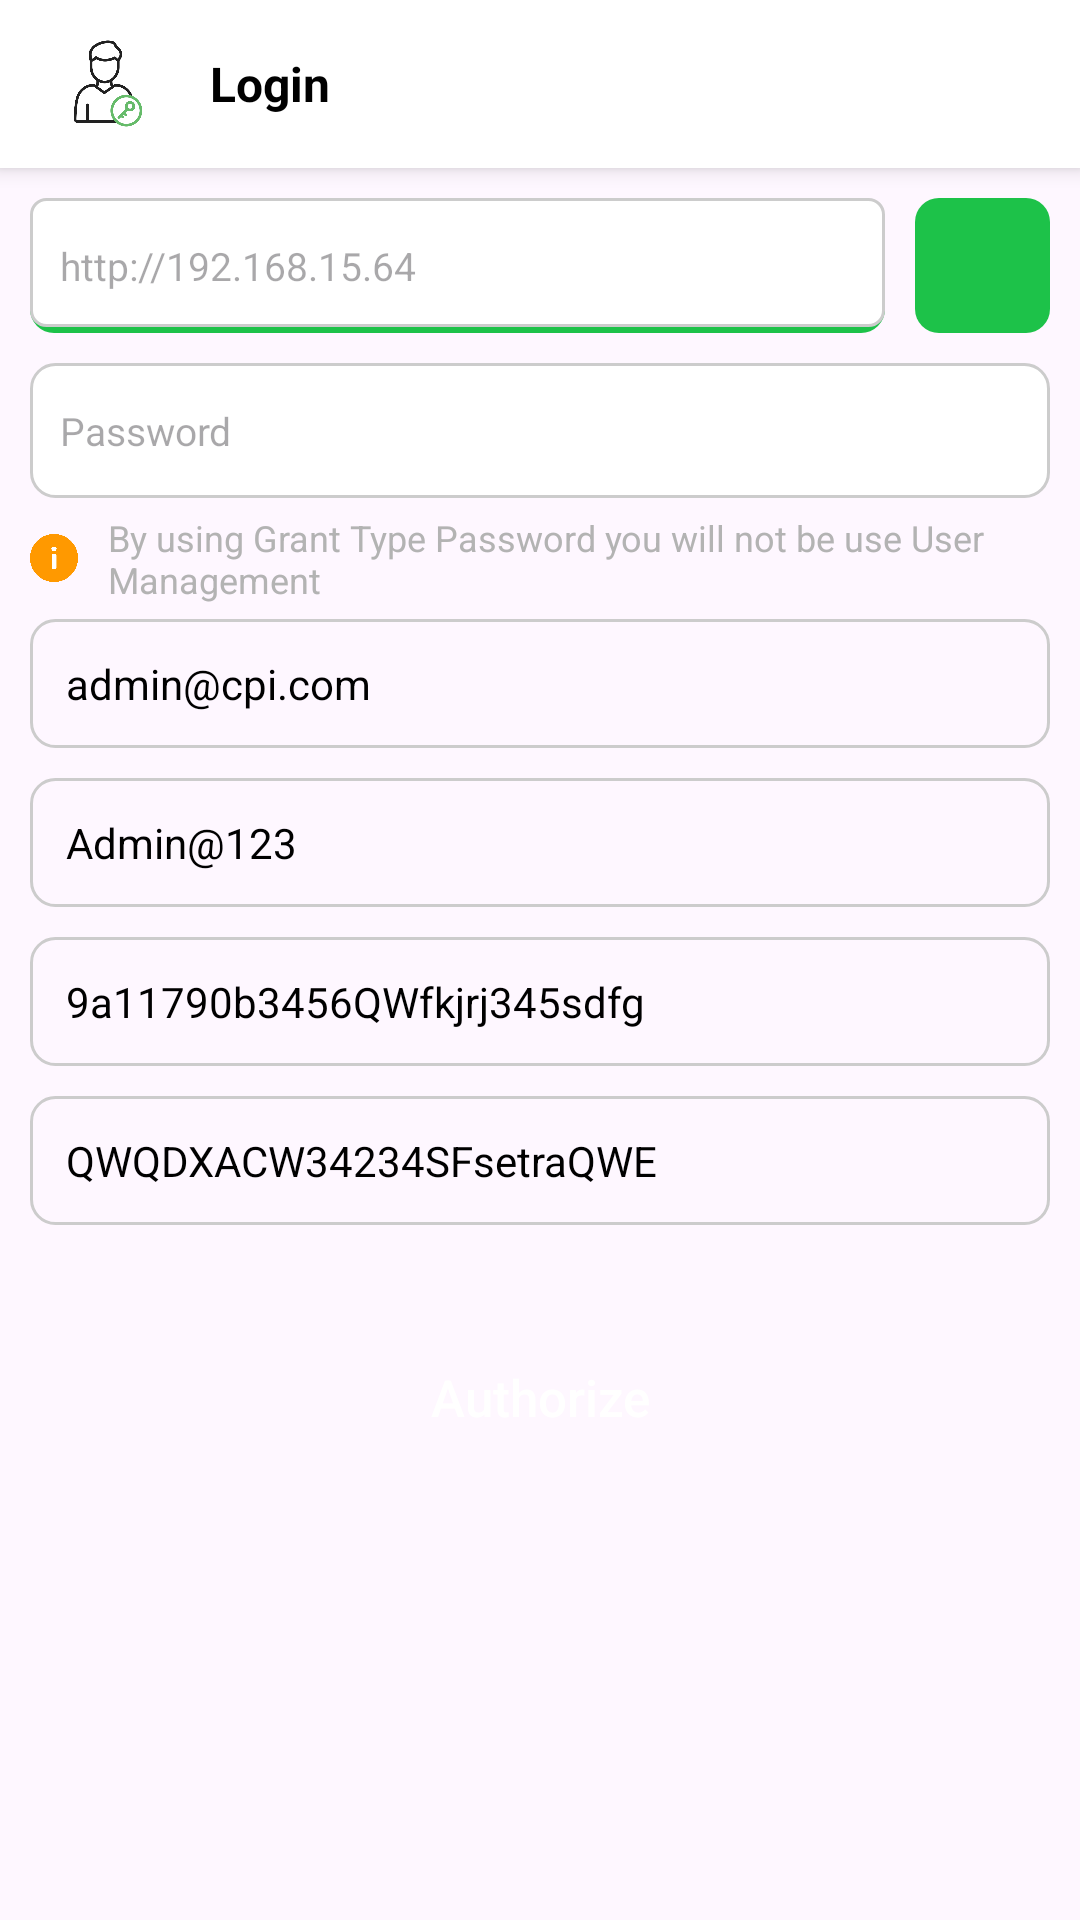

Icons on this 1080w x 1920h Android screen, each with its box as [left=x1, top=y1, right=x2, bottom=y2]:
info: [left=30, top=534, right=78, bottom=582]
